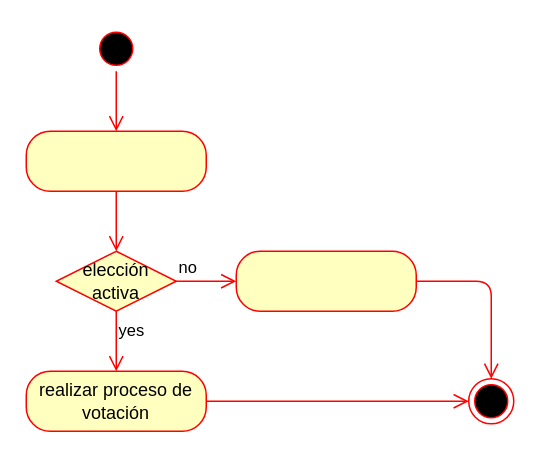
Some shapes in this 540 by 458 pixel diagram are drawn without their labels. The shapes that lost their labels are listed below. From the top down, each one's centre as x and y in pixels, then its label:
At (x=115, y=160): "elegir elección".
At (x=325, y=280): "notificar elección inactiva".
